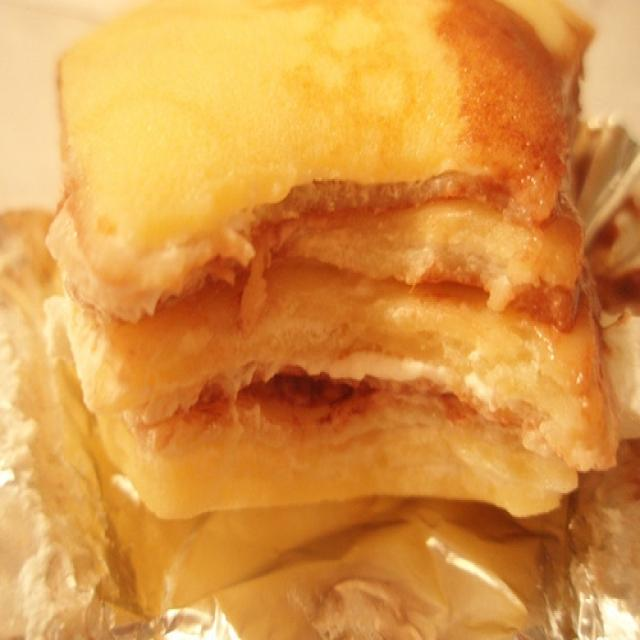鸡蛋料理: (116, 64, 640, 501)
